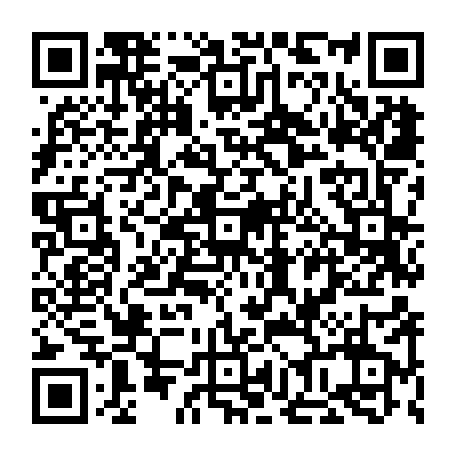QR_CODE: (22, 22, 436, 430)
